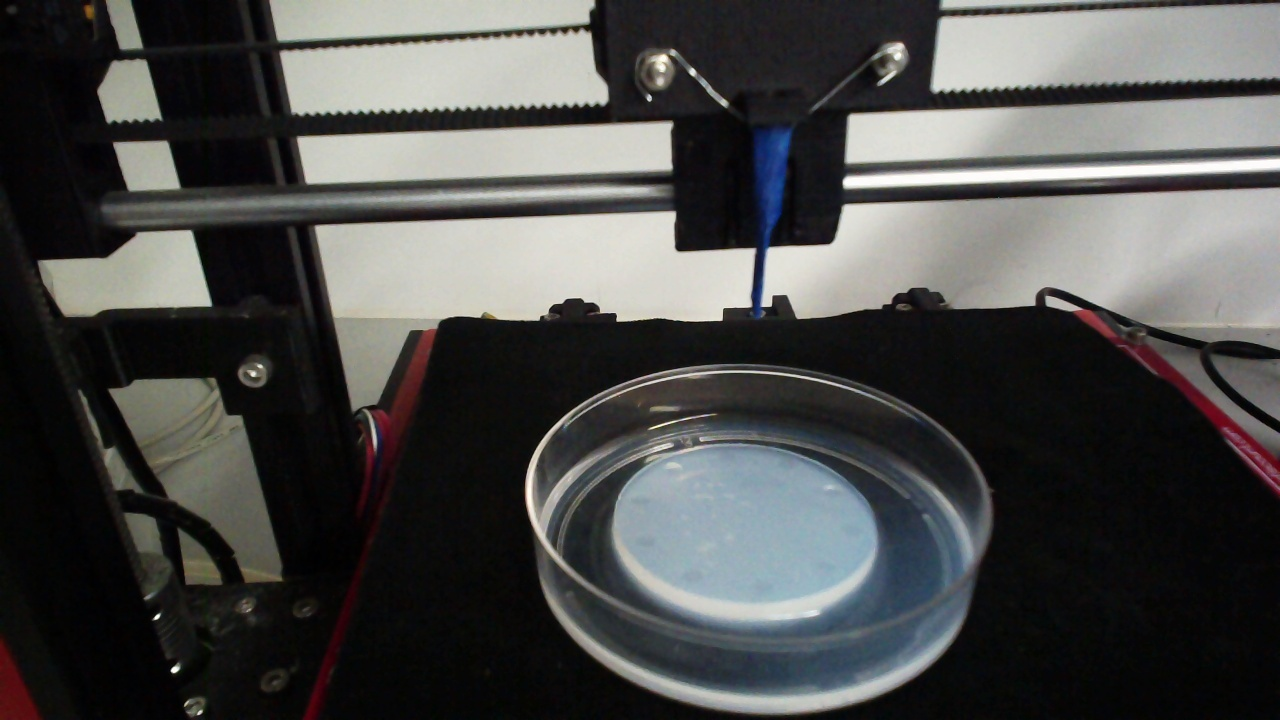groove: (662, 459, 684, 479), (812, 558, 837, 575), (840, 521, 862, 540), (820, 482, 844, 499), (680, 568, 705, 584), (749, 576, 774, 592), (774, 456, 797, 472), (633, 534, 656, 549), (629, 493, 651, 507), (717, 449, 738, 462)
needle: (751, 128, 793, 322)
